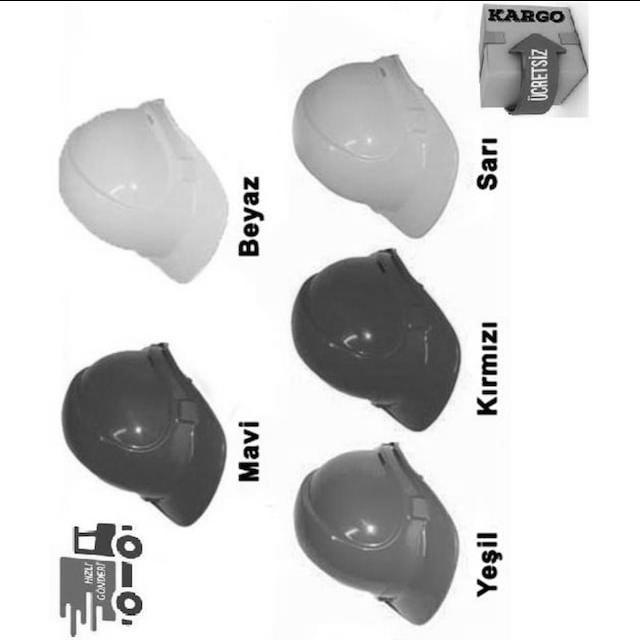construction helmet: (292, 246, 465, 433), (59, 95, 229, 285), (294, 440, 463, 627), (293, 52, 462, 239)
